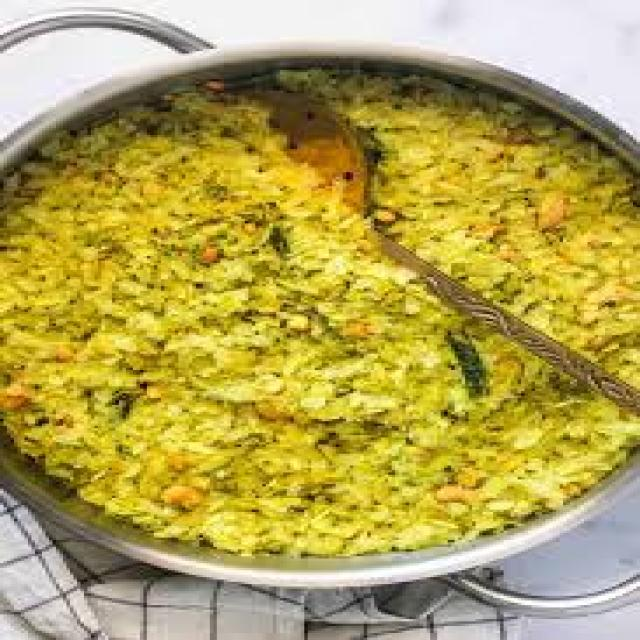POHA: (0, 68, 637, 566)
